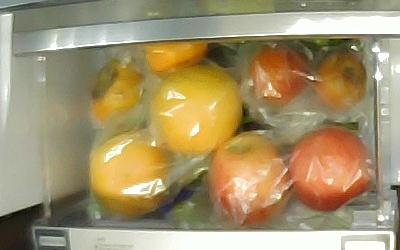apple_vinyl: (209, 134, 290, 226), (289, 128, 370, 212)
grapefruit_vinyl: (149, 66, 242, 155), (89, 131, 170, 218)
persimmon_vinyl: (89, 61, 142, 122), (143, 41, 208, 76)
prune_vinyl: (250, 47, 307, 106), (316, 51, 367, 111)
